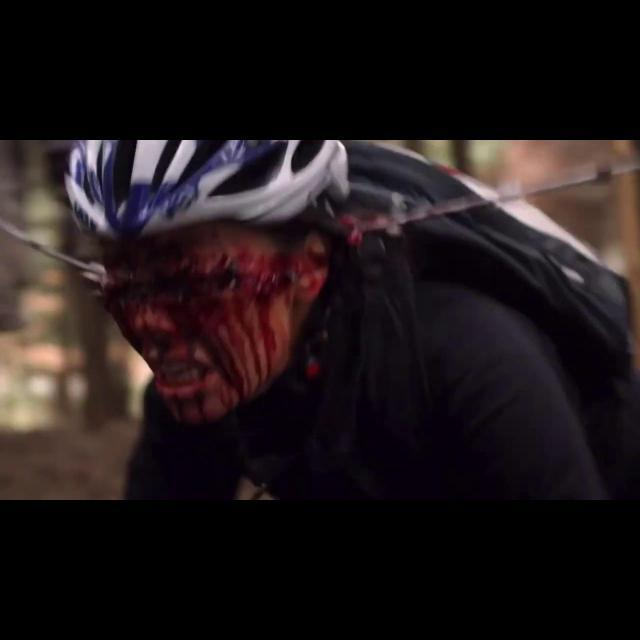blood: (103, 222, 328, 425)
